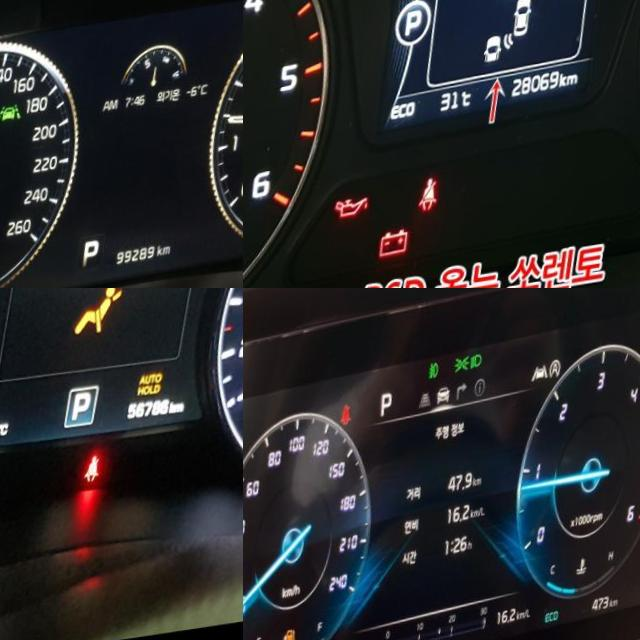FrontFogLight: (431, 367, 445, 387)
LaneCenteringOff: (535, 372, 556, 393)
Low beam: (473, 360, 488, 377)
Low fuel level: (297, 631, 311, 640)
SideLamp: (457, 361, 476, 382)
